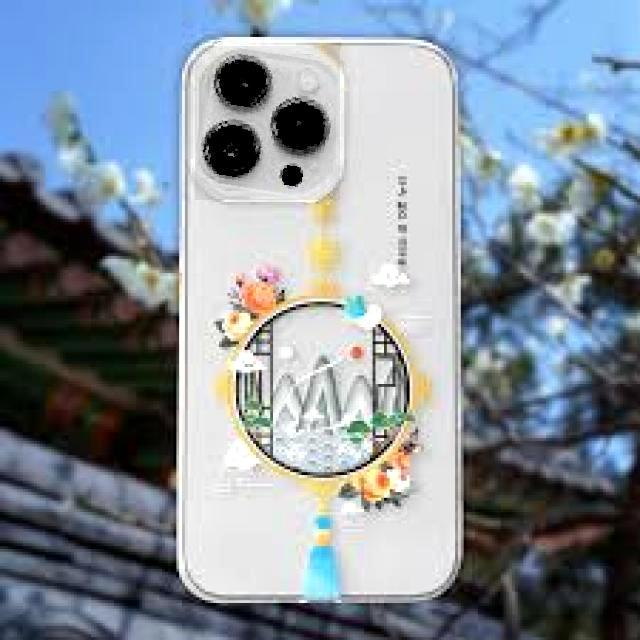lens_back: (212, 54, 274, 114), (201, 118, 261, 178), (269, 96, 331, 154)
phone: (175, 31, 469, 610)
